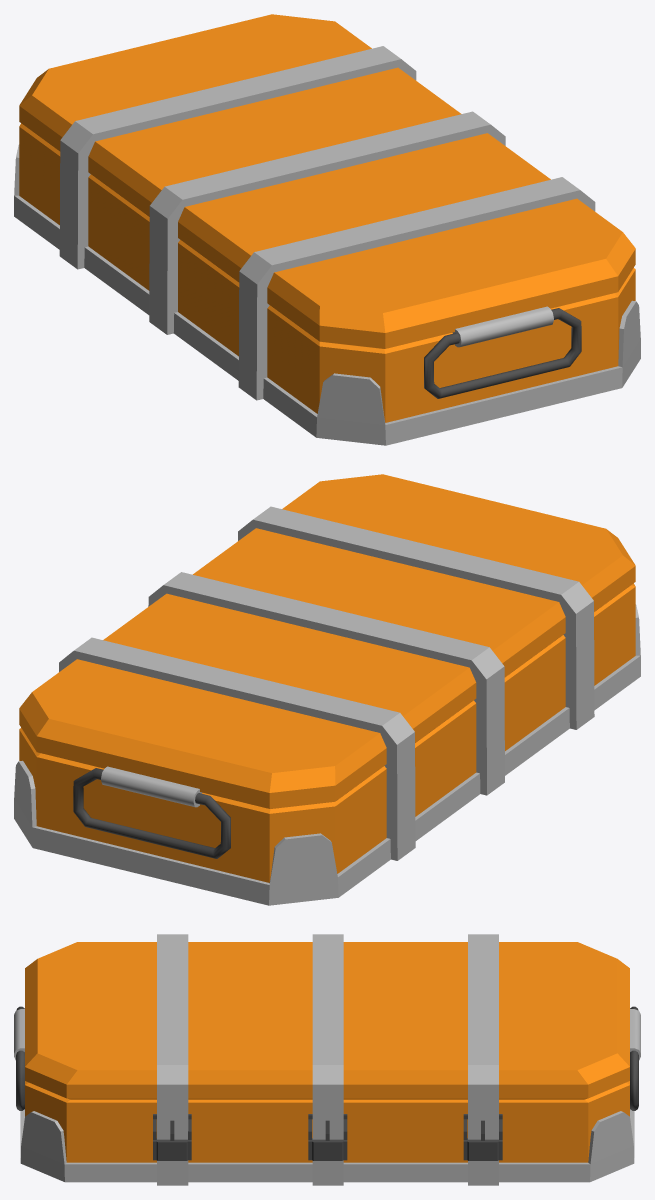
The picture shows the model from 3 angles, top to bottom: view 1: azimuth 30°, elevation 25°; view 2: azimuth 150°, elevation 25°; view 3: azimuth 270°, elevation 25°; orthographic projection. The views are drawn at different scales.
Visible parts, largest first — view 1: SM_Box01; view 2: SM_Box01; view 3: SM_Box01.
Boxes of the visible parts, x1,y1,x2,y2 form: SM_Box01: (14,14,640,445); SM_Box01: (14,474,640,905); SM_Box01: (14,934,640,1185).
Size of the model in its own units: 85.67 by 31.23 by 155.
